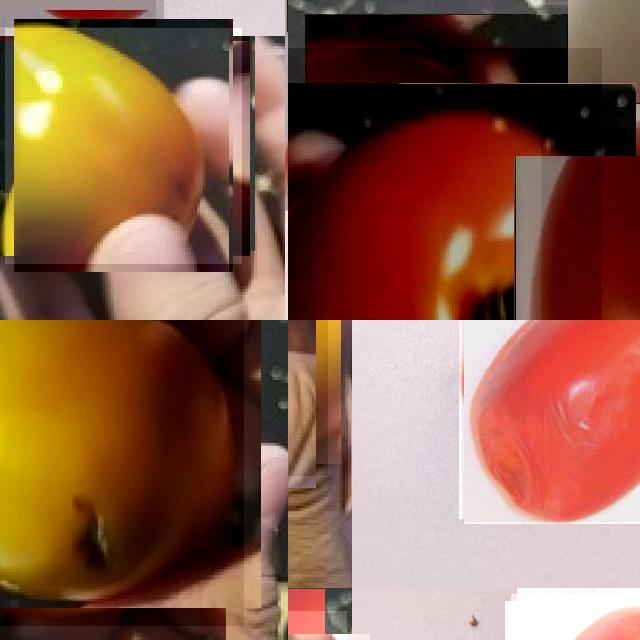1: (5, 28, 242, 264)
Fresh Tomato: (288, 48, 602, 320)
Rotten Tomato: (0, 320, 244, 625), (461, 320, 640, 521)
